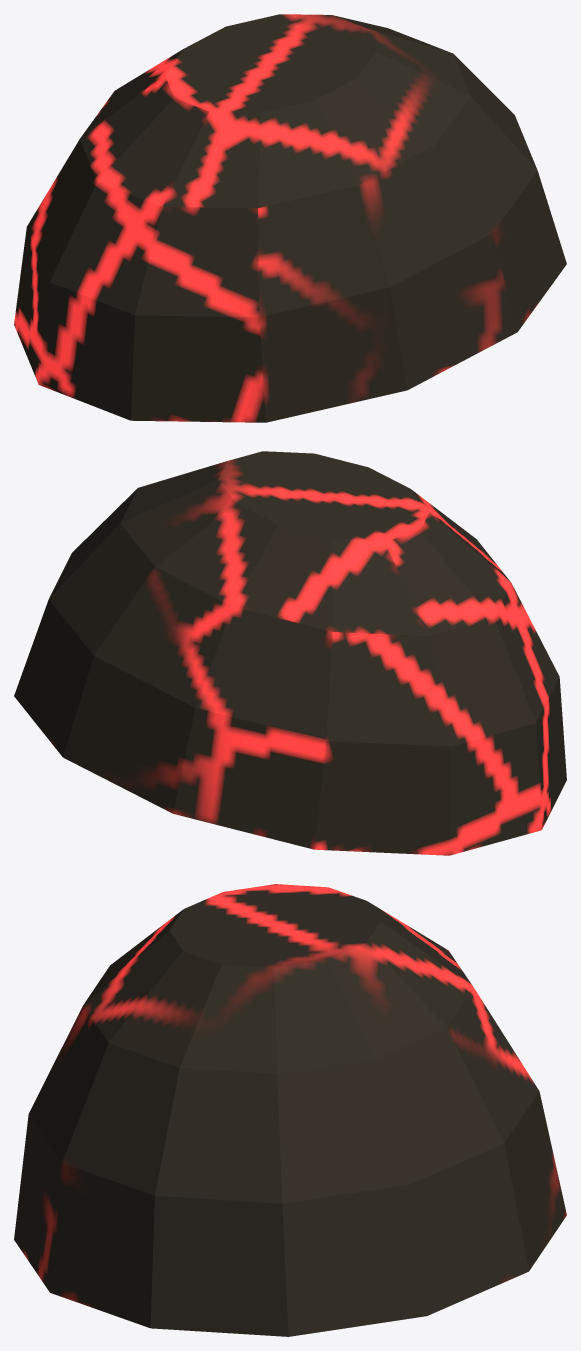
The model's file is Ant_butt.fbx.
3 views of the same model, one above another, from view 1: azimuth 30°, elevation 25°; view 2: azimuth 150°, elevation 25°; view 3: azimuth 270°, elevation 25° (orthographic). The views are drawn at different scales.
Parts seen in each view (by area): view 1: pSphere2; view 2: pSphere2; view 3: pSphere2.
Boxes of the visible parts, x1,y1,x2,y2 form: pSphere2: (14, 14, 566, 422); pSphere2: (14, 451, 566, 855); pSphere2: (14, 884, 566, 1336).
Size of the model in its own units: 4.71 by 2.56 by 3.8.
Materials: 1 (1 with a texture image).
